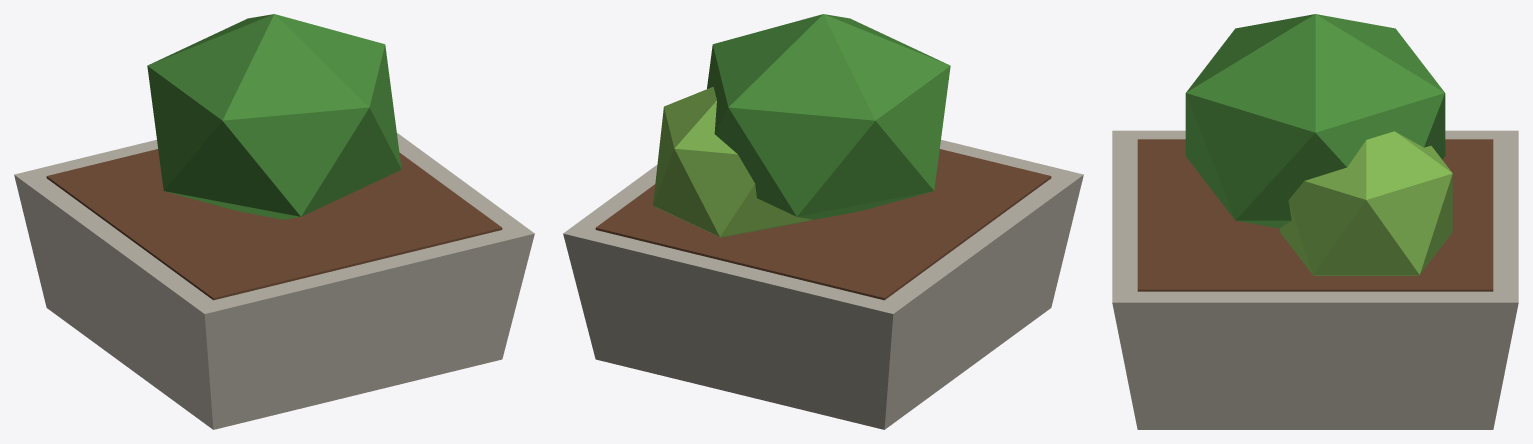
The model's file is planter.glb.
3 renders of one model, left to right at view 1: azimuth 30°, elevation 25°; view 2: azimuth 150°, elevation 25°; view 3: azimuth 270°, elevation 25°, orthographic. The views are drawn at different scales.
Visible parts, largest first — view 1: planter; view 2: planter; view 3: planter.
Part boxes in pixels (bbox=[...]): planter: bbox=[14, 14, 534, 429]; planter: bbox=[563, 14, 1083, 429]; planter: bbox=[1112, 14, 1518, 429].
Bounding box in the file's own units: 1.6 × 1.48 × 1.6.
